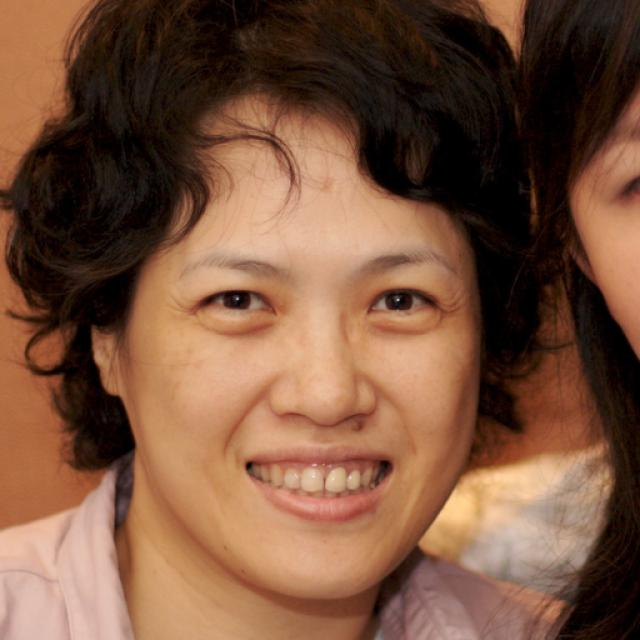Acne: (346, 419, 365, 432)
Dark Circle: (195, 309, 282, 336), (364, 310, 444, 336)
